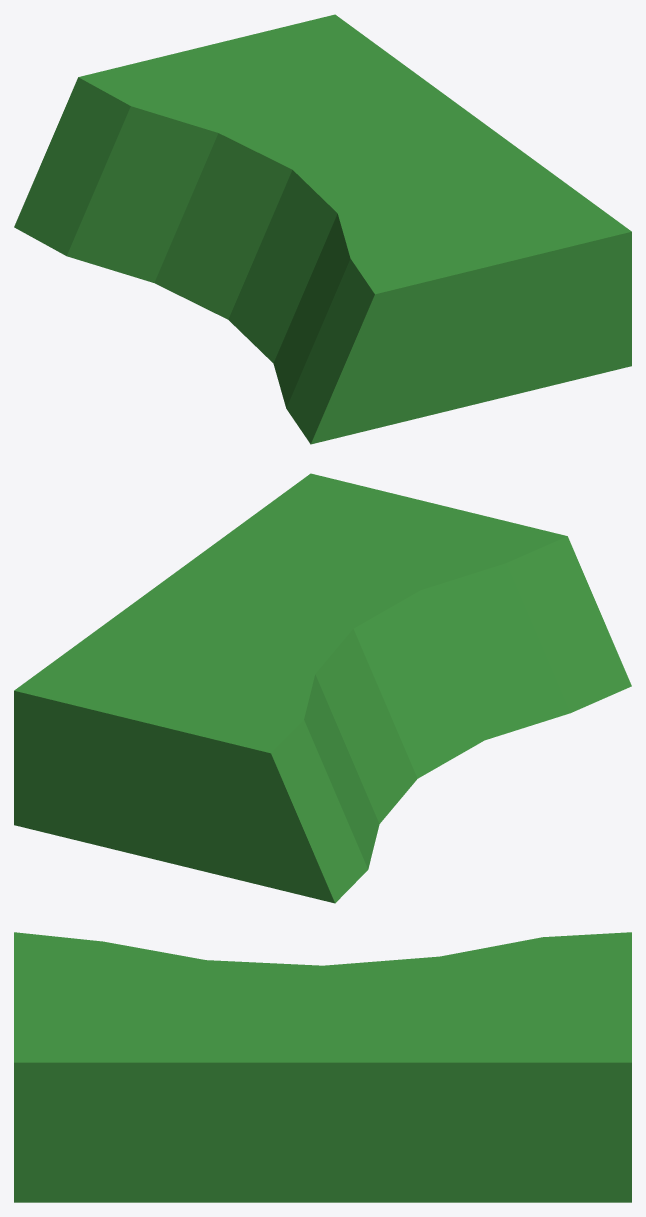
File: pond_straight_002.fbx
The picture shows the model from 3 angles, top to bottom: view 1: azimuth 30°, elevation 25°; view 2: azimuth 150°, elevation 25°; view 3: azimuth 270°, elevation 25°; orthographic projection. The views are drawn at different scales.
Parts seen in each view (by area): view 1: pond.straight.002; view 2: pond.straight.002; view 3: pond.straight.002.
Part boxes in pixels (bbox=[...]): pond.straight.002: bbox=[14, 14, 631, 444]; pond.straight.002: bbox=[14, 473, 631, 903]; pond.straight.002: bbox=[14, 932, 631, 1202].
Size of the model in its own units: 250 by 100 by 400.
